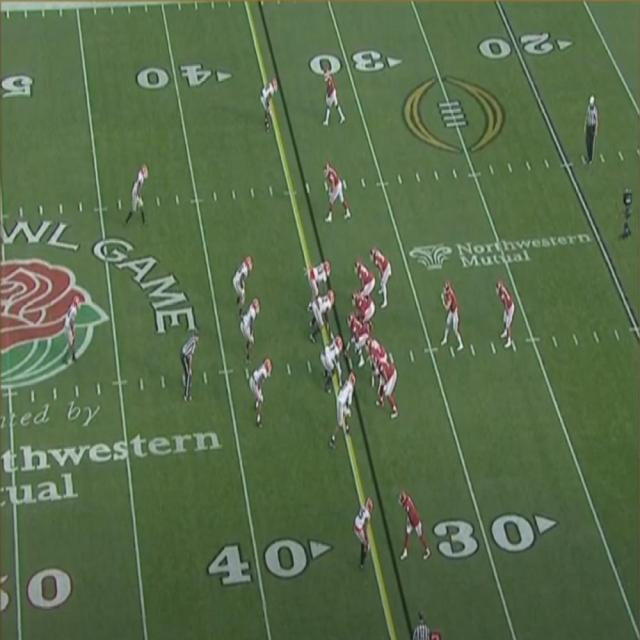center: (346, 312, 366, 362)
db: (355, 496, 372, 557), (65, 294, 81, 358), (130, 166, 147, 220), (261, 80, 275, 129)
lb: (248, 362, 270, 428), (240, 298, 260, 360), (235, 255, 253, 313)
qb: (443, 282, 459, 344)
skill: (398, 492, 424, 552), (495, 280, 516, 346), (334, 372, 356, 434), (372, 249, 392, 303), (324, 164, 342, 219), (323, 70, 338, 124)
